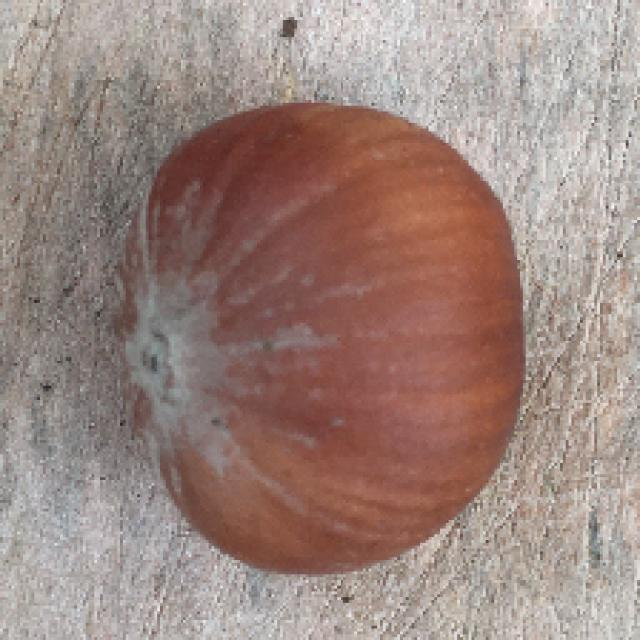damagedHazelnut: (114, 94, 526, 580)
